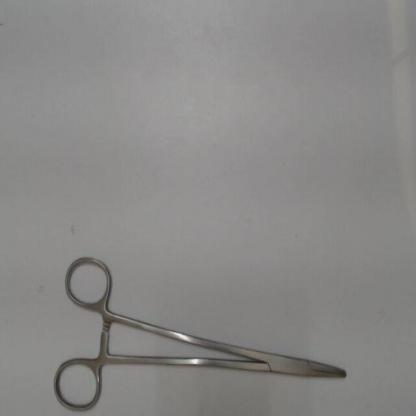8 Mayo Needle Holder: (46, 247, 356, 415)
